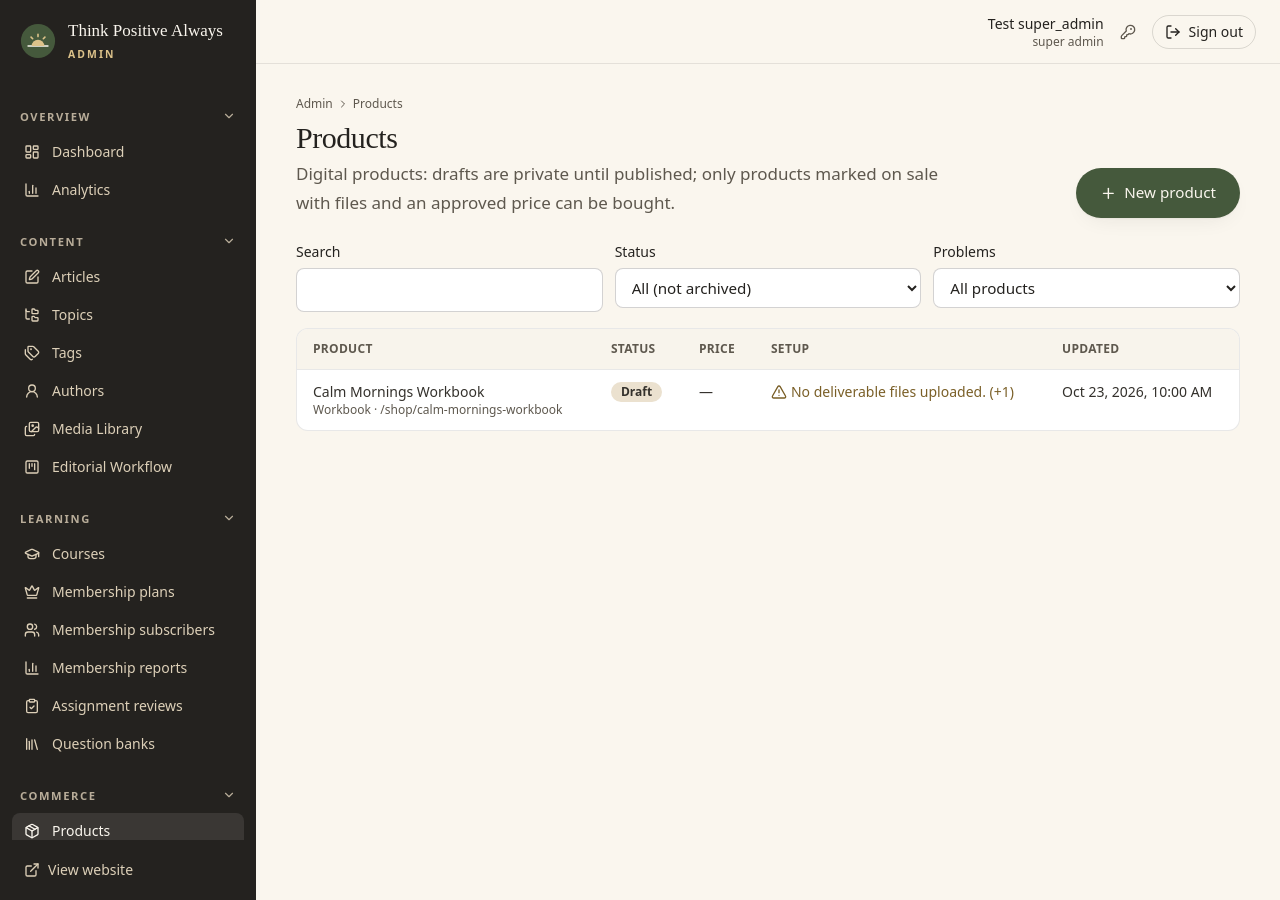
Scenario: product management › lists products with their setup problems and creates drafts
The image size is (1280, 900).
Check: the link "Calm Mornings Workbook" is shown, box [313,382,484,401]
Check: the text "No deliverable files uploaded. (+1)" is shown, box [771,382,1014,402]
Click the button "New product": x=1158, y=193 [1076,168,1240,218]
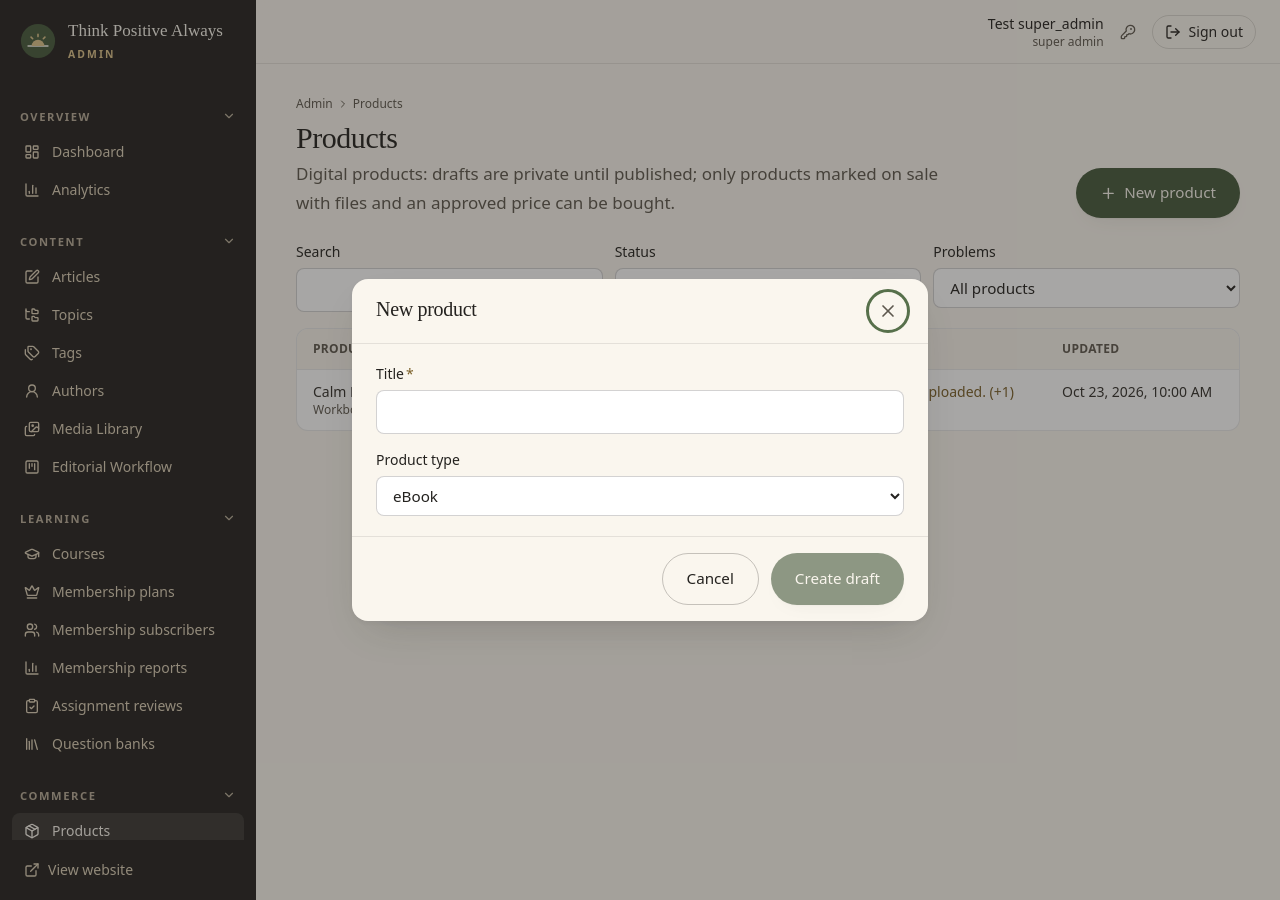
In the field labelled "Title*": x=640, y=412 [376,390,904,434], type "Evening Journal"
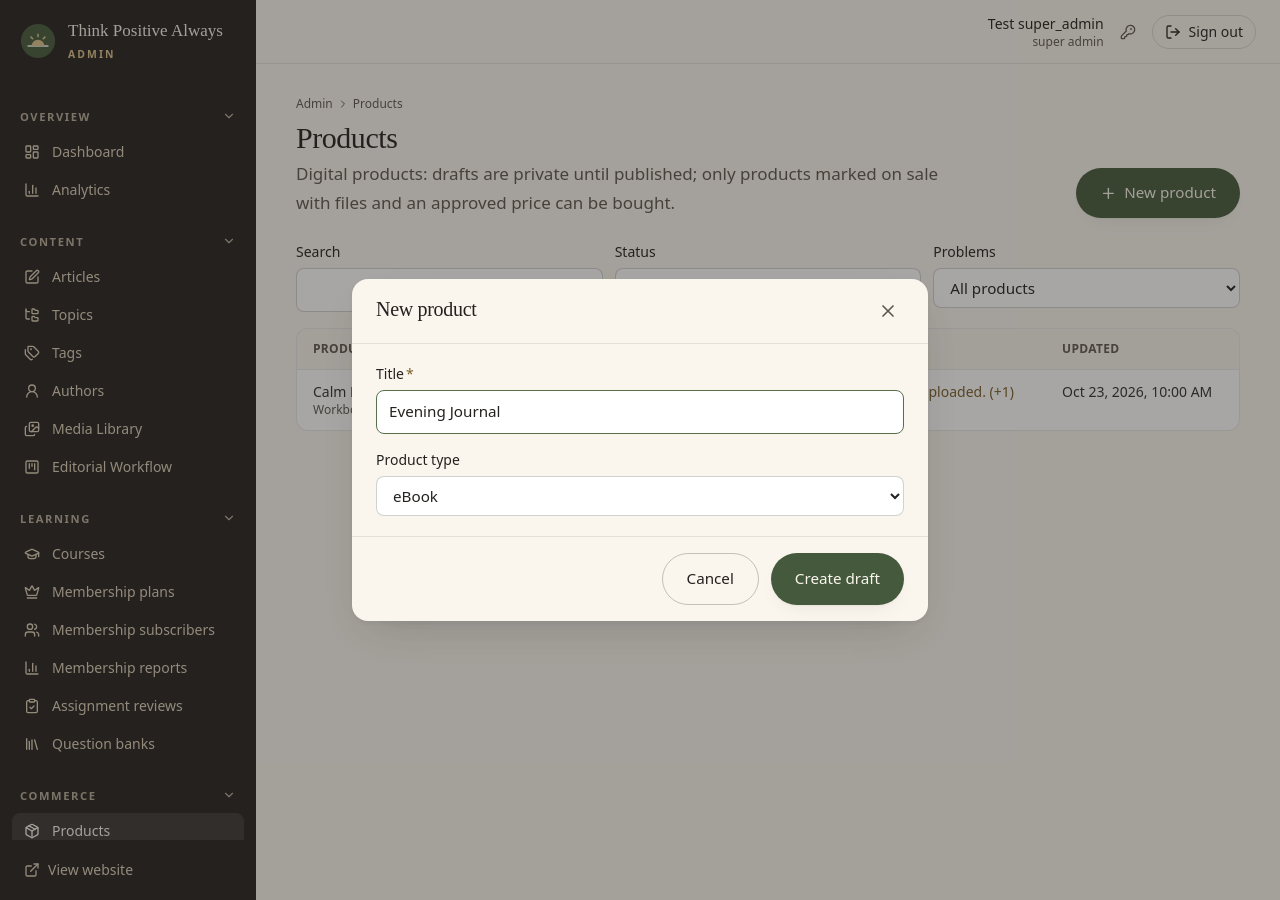
Click the button "Create draft": x=837, y=579 [771,553,904,605]
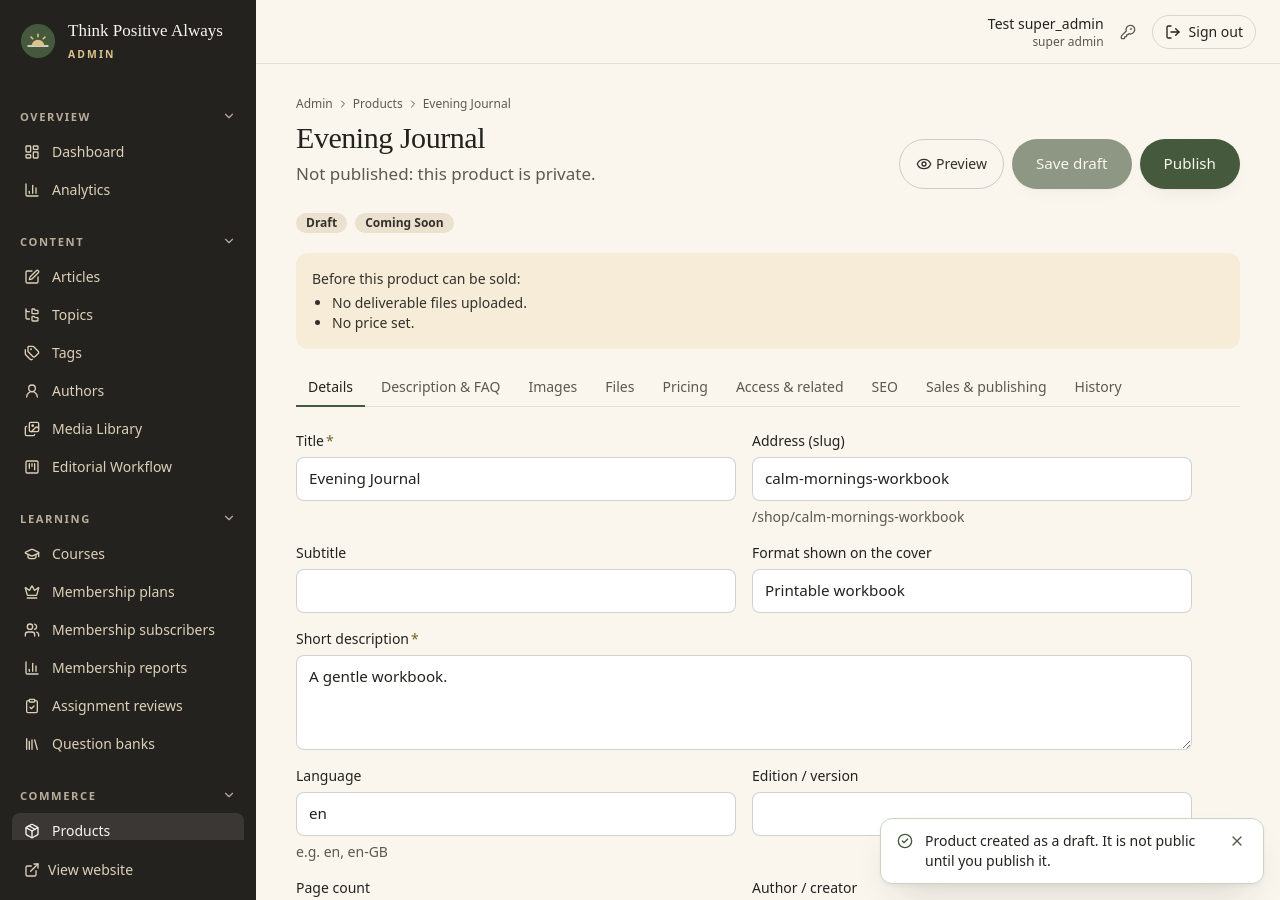
Check: the heading "Evening Journal" is shown, box [296,121,485,154]
